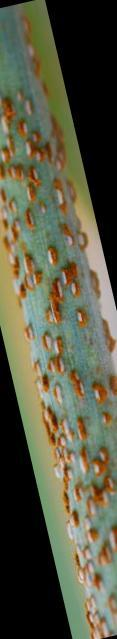Sugarcane: (0, 61, 117, 625)
